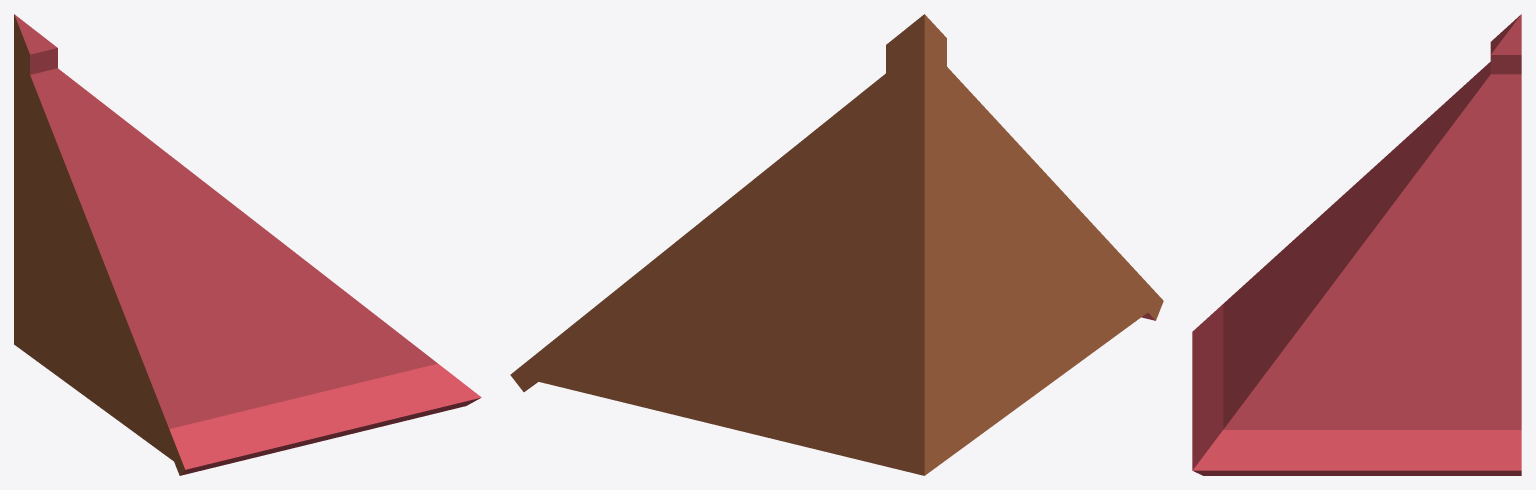
Rendered from roofHighCorner.dae.
3 renders of one model, left to right at view 1: azimuth 30°, elevation 25°; view 2: azimuth 150°, elevation 25°; view 3: azimuth 270°, elevation 25°, orthographic. The views are drawn at different scales.
Visible parts, largest first — view 1: roofHighCorner; view 2: roofHighCorner; view 3: roofHighCorner.
Part boxes in pixels (x1,y1,x2,y2): roofHighCorner: (14,14,481,475); roofHighCorner: (510,14,1163,475); roofHighCorner: (1192,14,1521,475).
Bounding box in the file's own units: 1.07 × 1.18 × 1.07.
